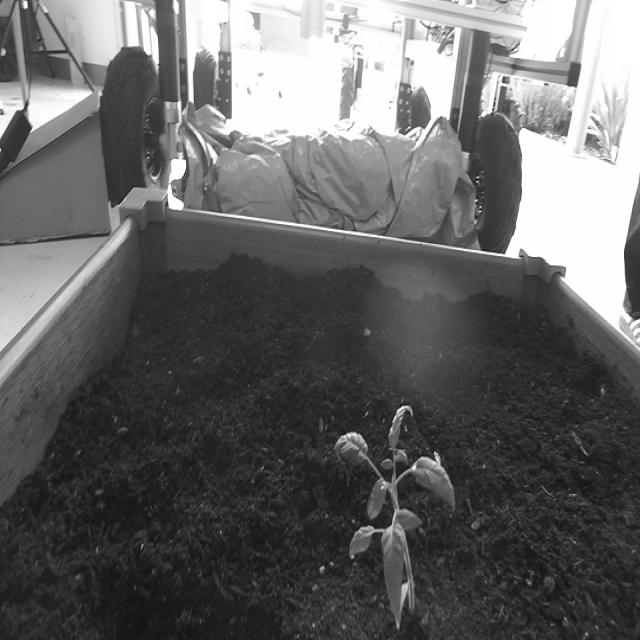Healthy: (324, 370, 466, 640)
